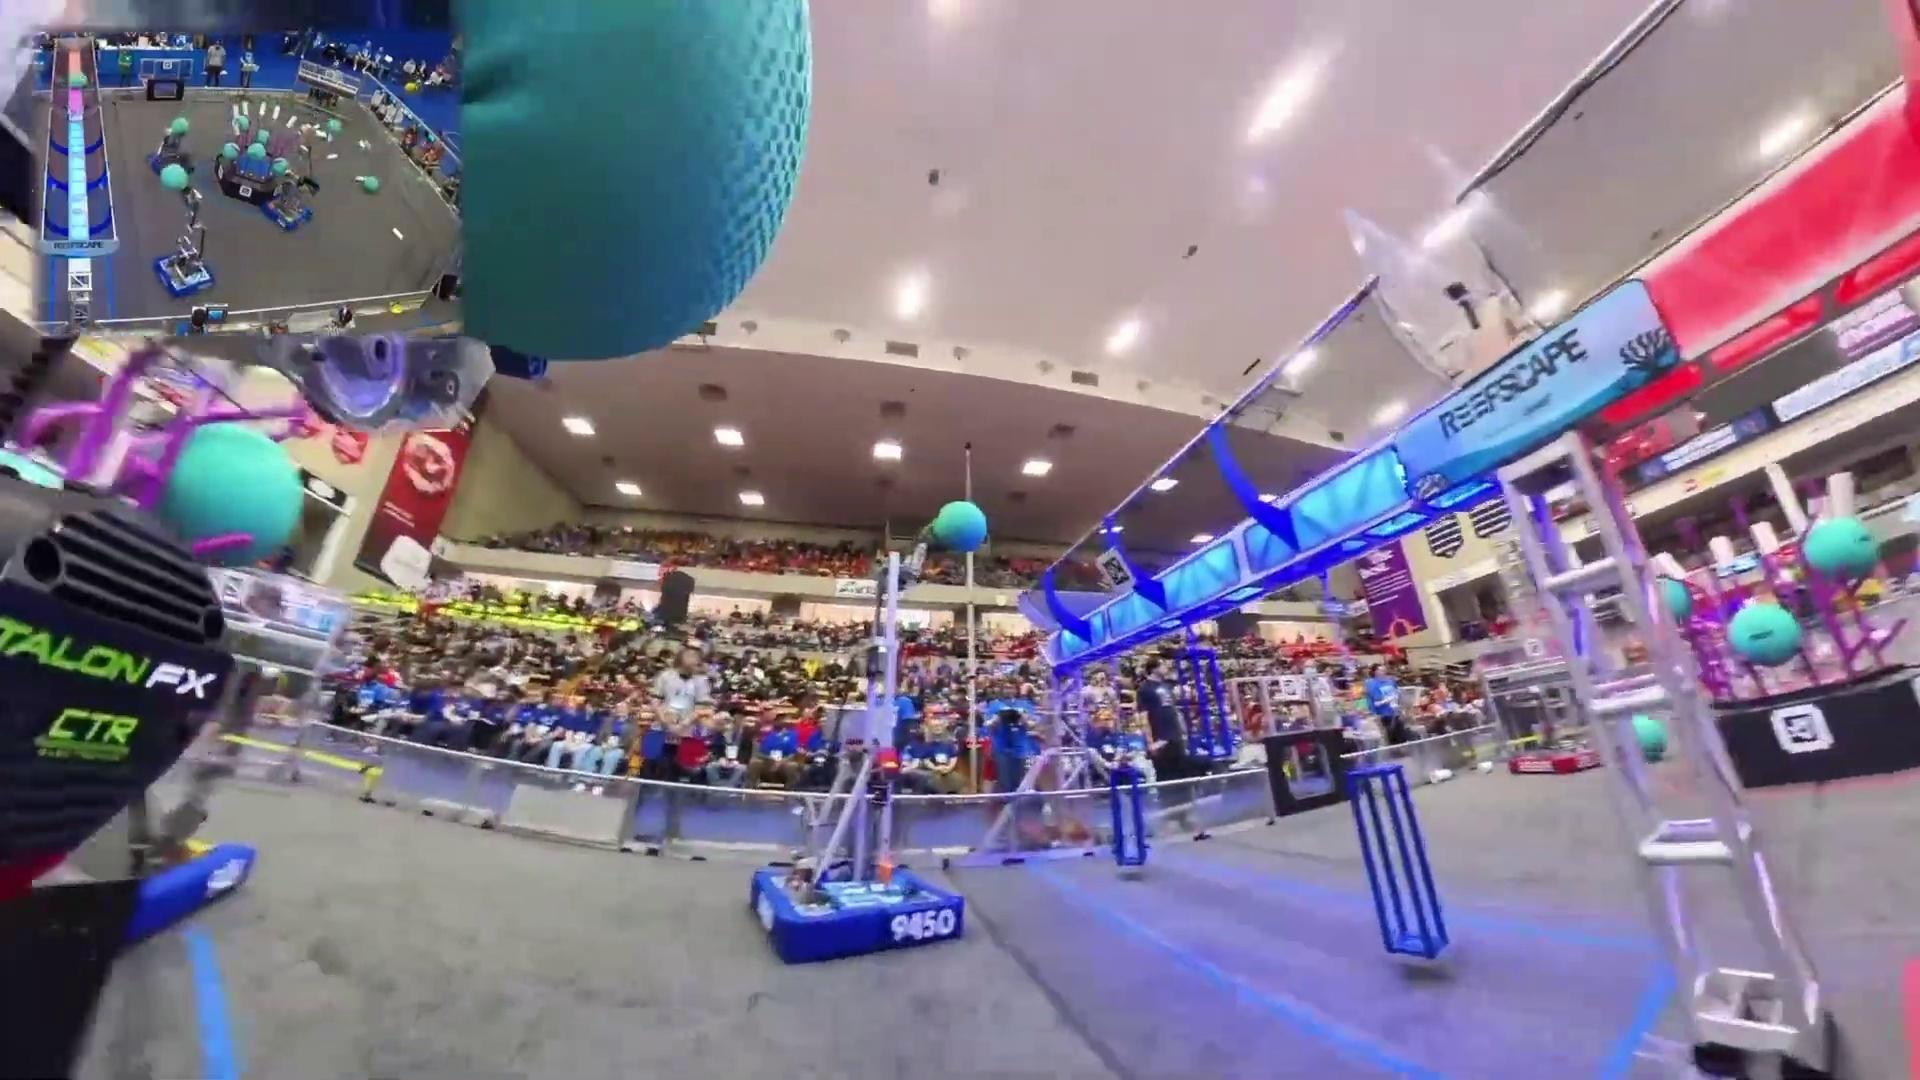robot: (749, 542, 963, 963), (153, 186, 216, 295), (1507, 715, 1598, 775), (265, 167, 314, 232), (148, 125, 195, 181)
